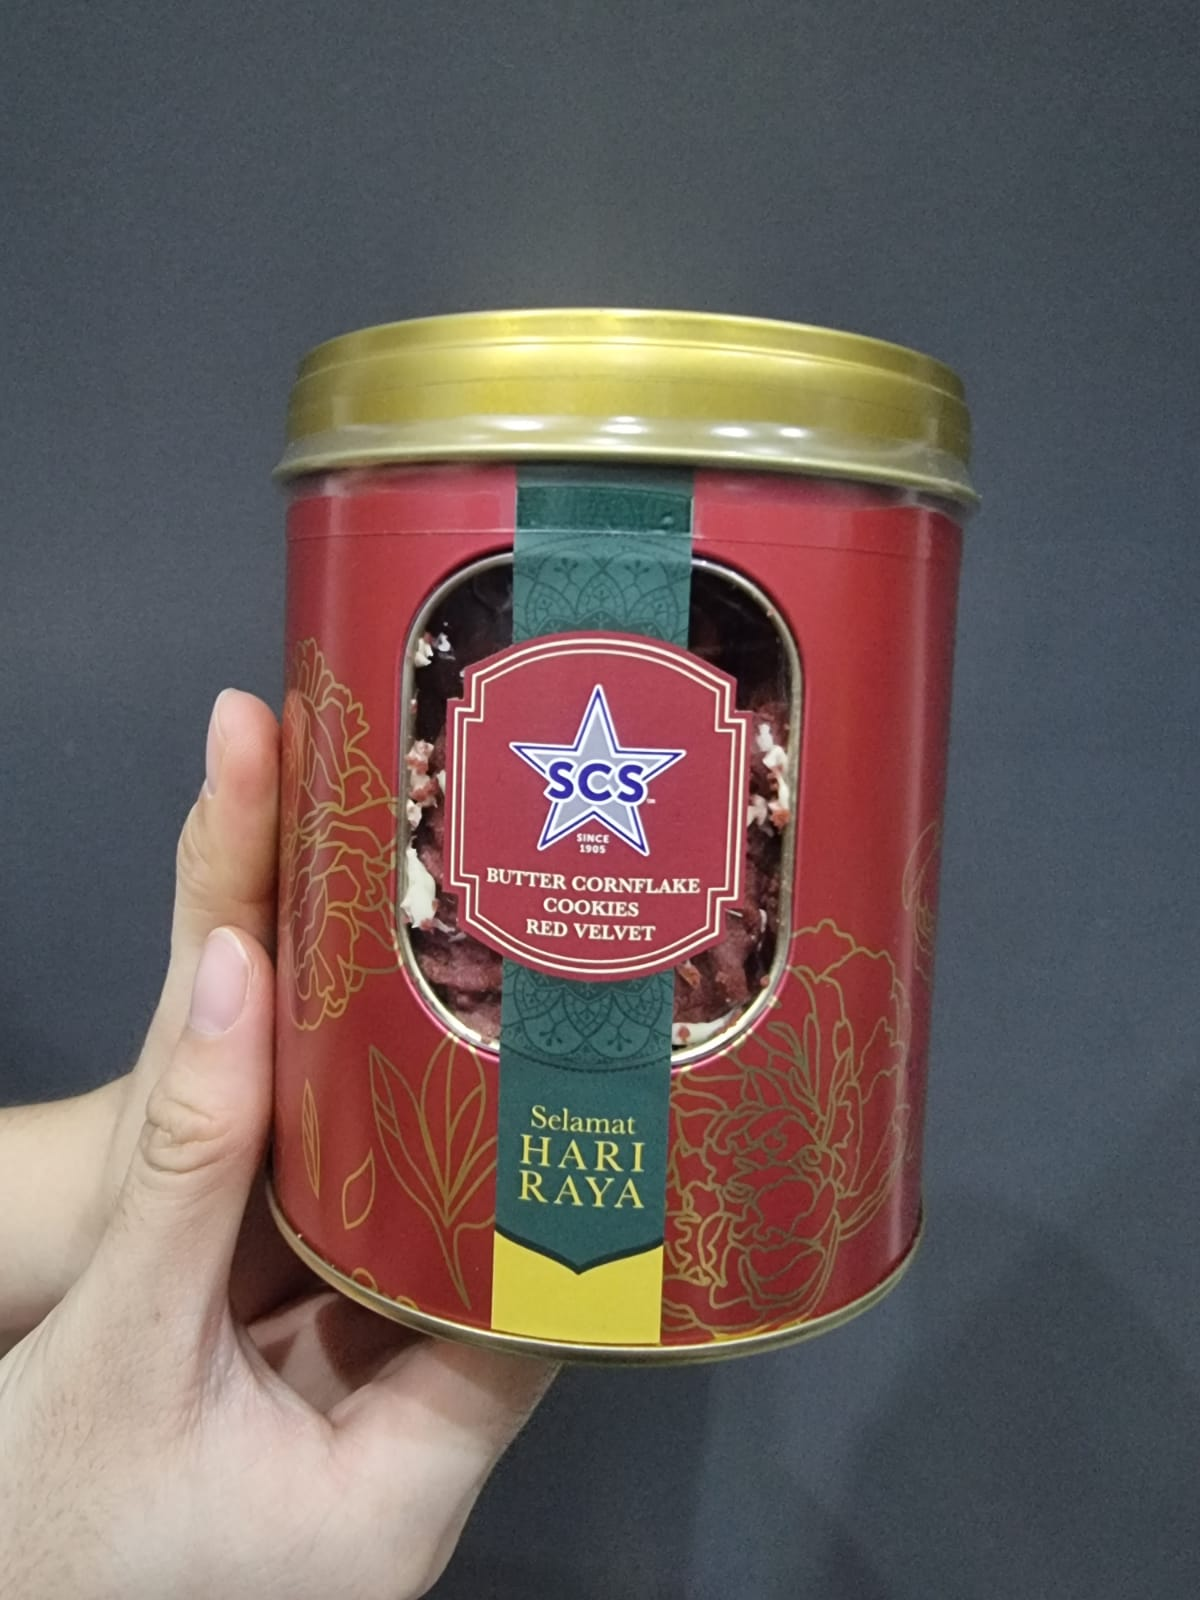Biscuits: (309, 384, 891, 1293)
